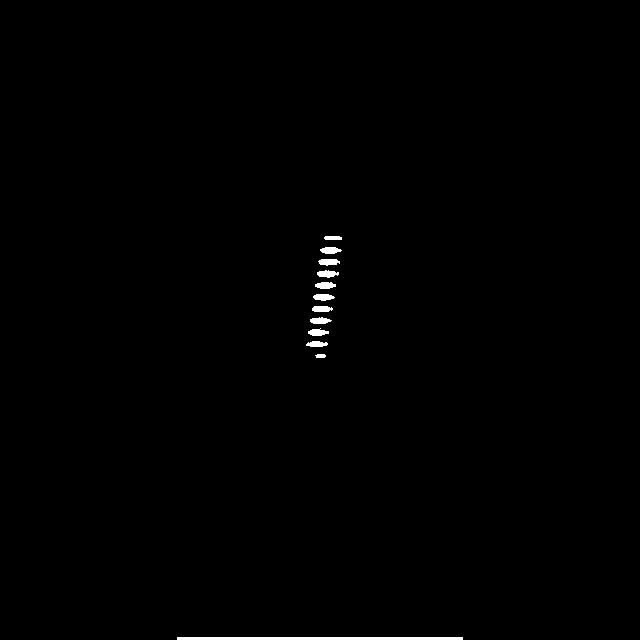03_intrusion: (309, 227, 343, 364)
